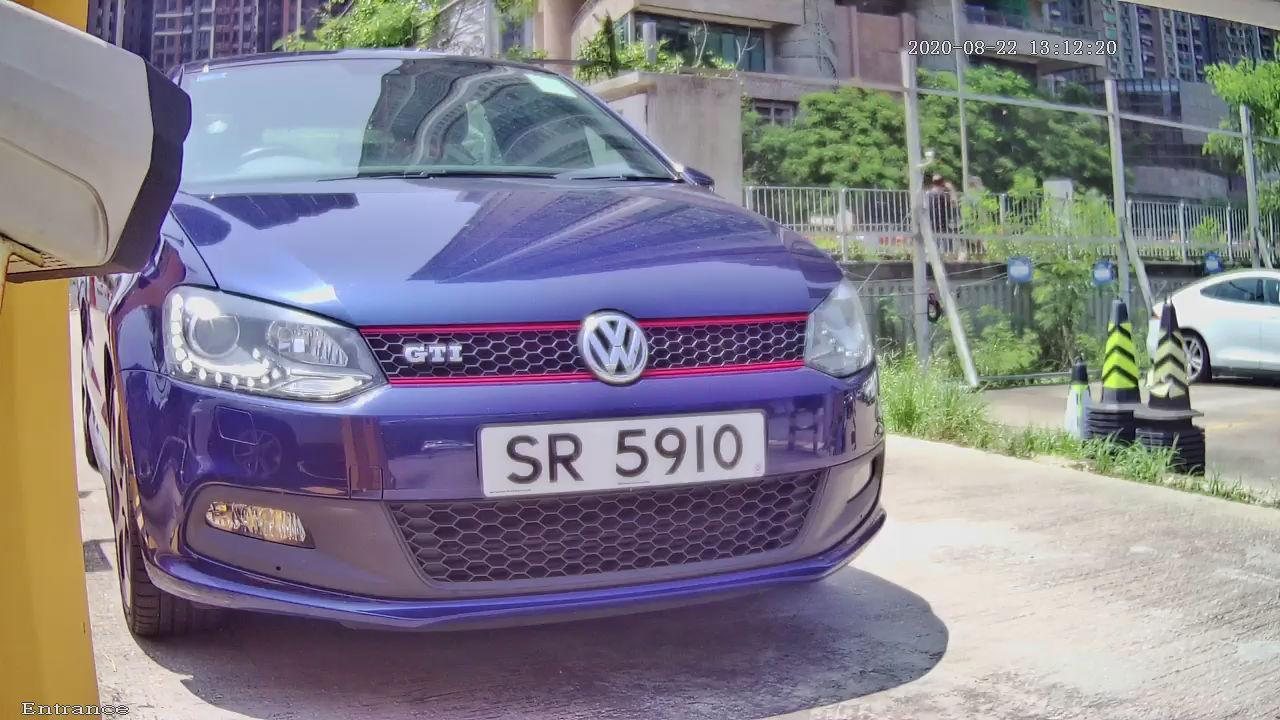Car: (52, 7, 955, 676)
License Plate: (412, 371, 846, 530)
